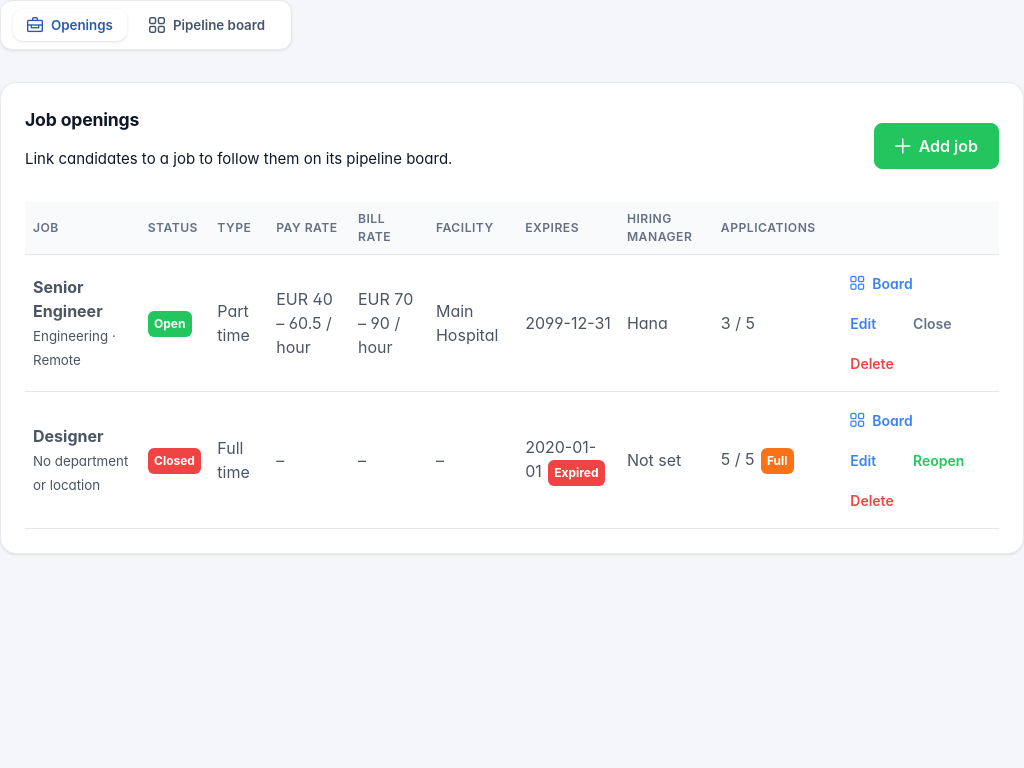
Test: JobsModule: pipeline board › moves a card with the stage menu and updates the counts at once
Click the tab with class "jobs-tab" showing "Pipeline board" at (207, 25), box [135, 9, 279, 41]
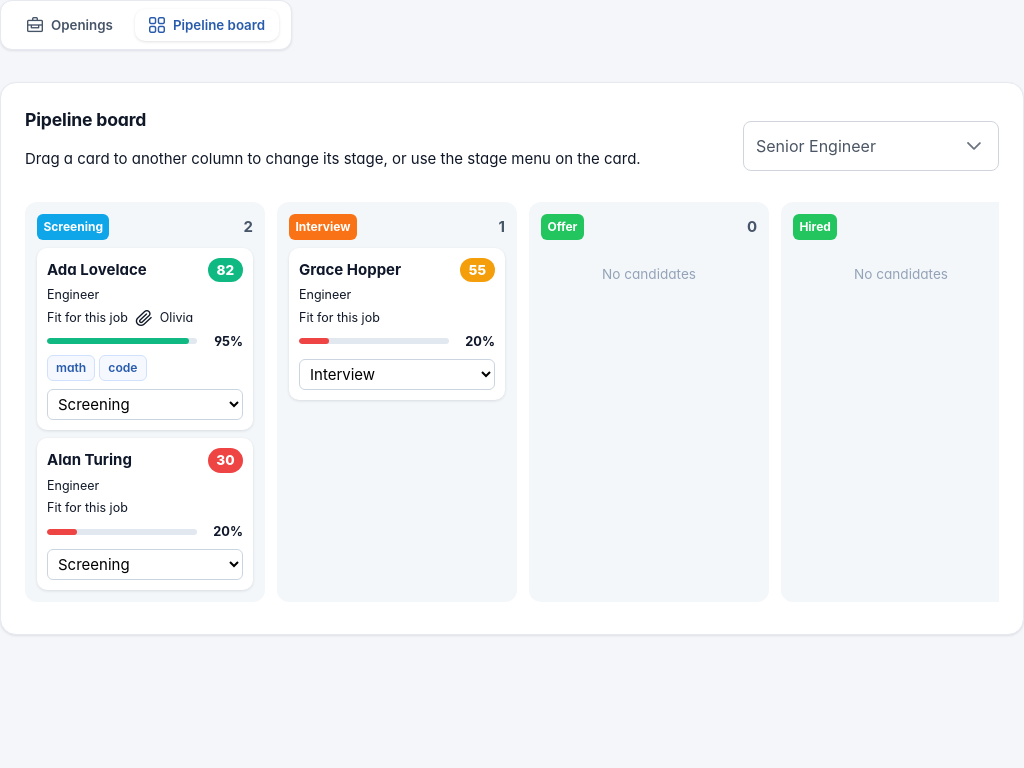
Select "Offer" in the dropdown named "Move Ada Lovelace to stage" at (145, 405), box [47, 389, 243, 420]
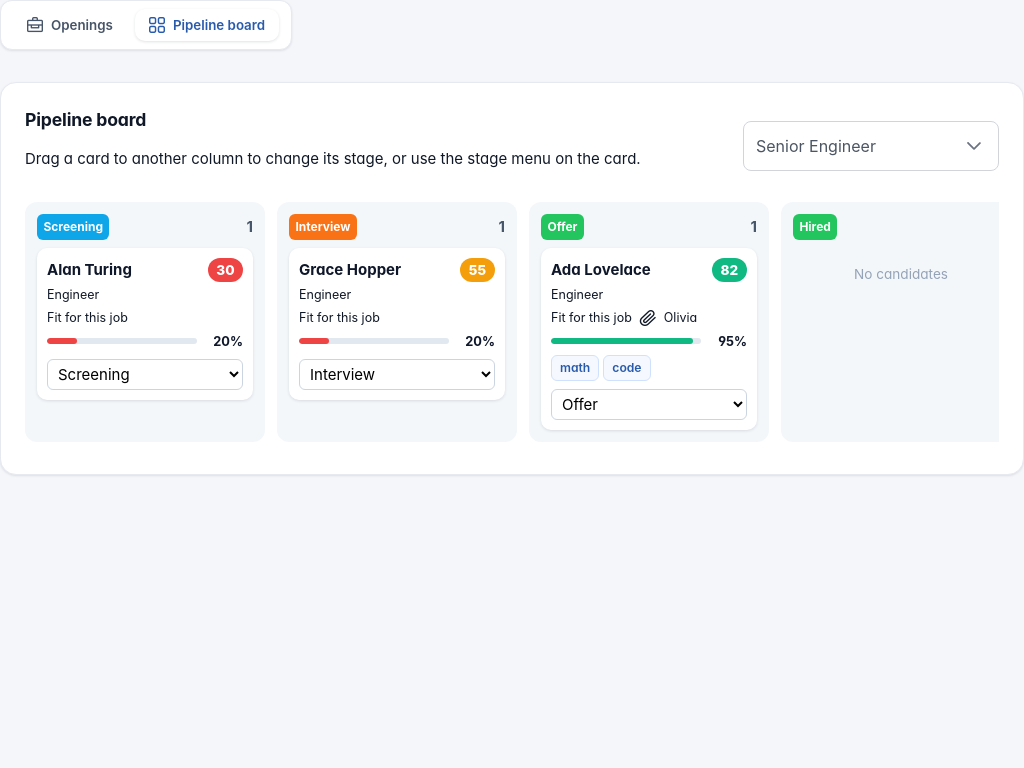
Expected: the element with class "board-column" shows "Ada Lovelace", [551, 259, 651, 281]
